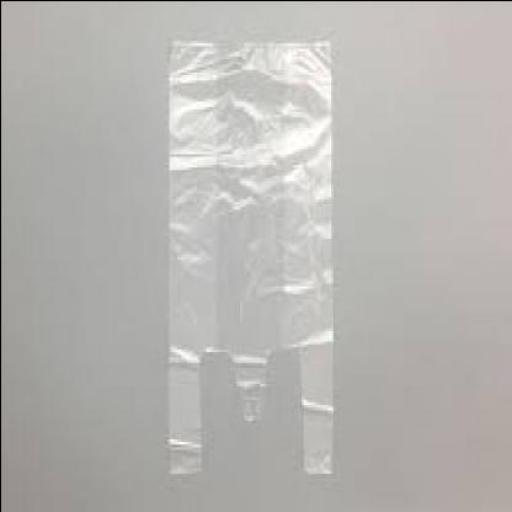plastic: (168, 39, 338, 480)
